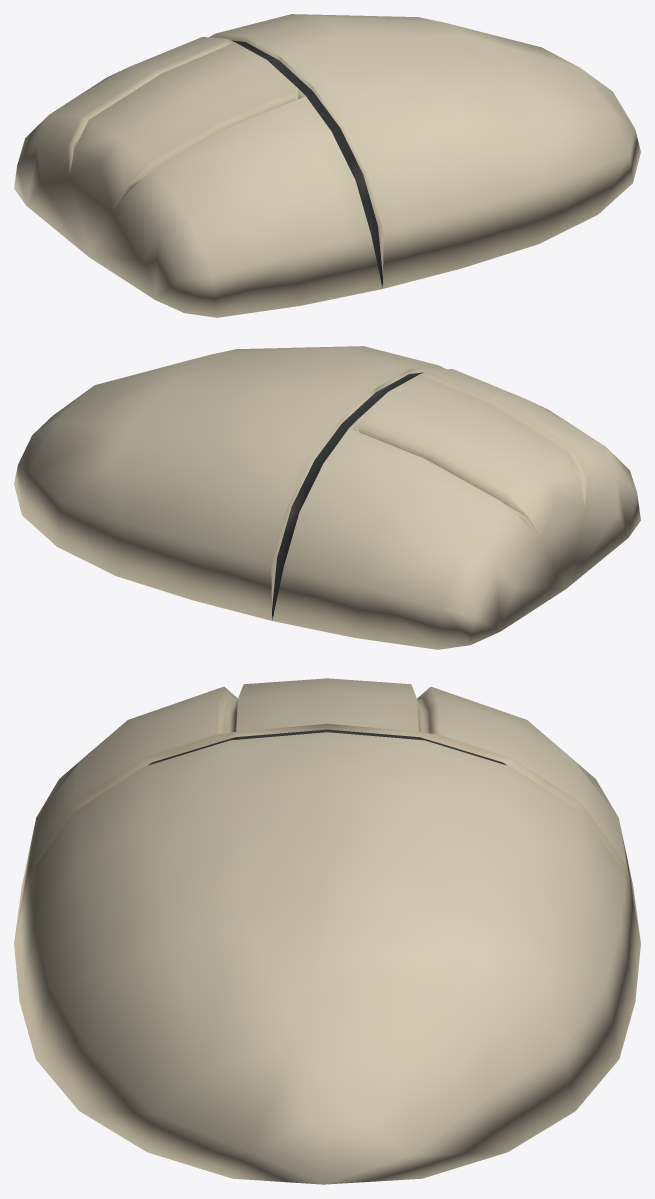
The model's file is Mouse.fbx.
The picture shows the model from 3 angles, top to bottom: view 1: azimuth 30°, elevation 25°; view 2: azimuth 150°, elevation 25°; view 3: azimuth 270°, elevation 25°; orthographic projection. The views are drawn at different scales.
Parts seen in each view (by area): view 1: Mouse; view 2: Mouse; view 3: Mouse.
Boxes of the visible parts, box(x1,y1,x2,y2) form: Mouse: box(14, 14, 640, 317); Mouse: box(14, 346, 640, 649); Mouse: box(14, 678, 640, 1184).
Bounding box in the file's own units: 13.72 × 3.9 × 9.78.
1 material, 1 textured.
